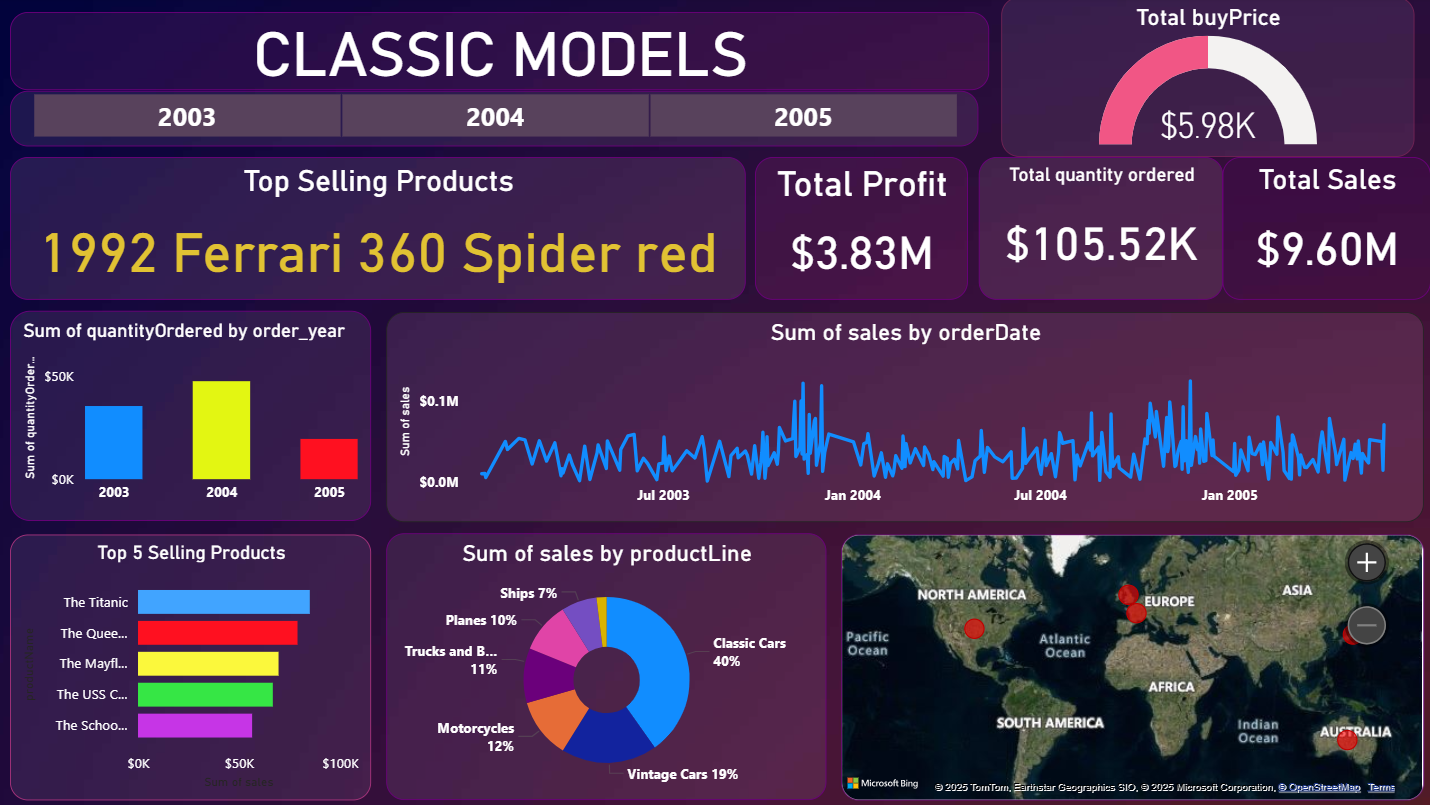

Layout of this report page (visuals, bound fields, positions):
{"tool":"powerbi","page":{"name":"Page 1","canvas":[1280,720],"ordinal":0},"visuals":[{"type":"card","title":"Total Profit","fields":{"Values":["orders detail.total_profit"]},"box":[676.9,142.3,189.7,126.9],"z":0},{"type":"barChart","title":"Top 5 Selling Products","fields":{"Category":["products.productName"],"Y":["Sum(orders detail.sales)"]},"box":[12.8,478.2,321.8,237.2],"z":1000},{"type":"card","title":"Total quantity ordered","fields":{"Values":["Sum(orders detail.quantityOrdered)"]},"box":[875.6,142.3,217.9,126.9],"z":2000},{"type":"slicer","fields":{"Values":["orders.order_year"]},"box":[13.3,83.2,862.6,49.5],"z":3000},{"type":"clusteredColumnChart","fields":{"Category":["orders.order_year"],"Y":["Sum(orders detail.quantityOrdered)"]},"box":[12.8,279.5,321.8,187],"z":4000},{"type":"donutChart","fields":{"Y":["Sum(orders detail.sales)"],"Category":["productline.productLine"]},"box":[348.7,477.8,392.1,237.7],"z":5000},{"type":"card","title":"Total Sales","fields":{"Values":["Sum(orders detail.sales)"]},"box":[1093.6,142.3,185.9,126.9],"z":6000},{"type":"map","fields":{"Size":["CountNonNull(customers.customerNumber)"],"Category":["office.country"]},"box":[753.8,478.2,519.2,237.2],"z":7000},{"type":"card","title":"Top Selling Products","fields":{"Values":["orders detail.MostOrderedProduct"]},"box":[12.8,142.3,655.1,126.9],"z":8000},{"type":"lineChart","fields":{"Y":["Sum(orders detail.sales)"],"Category":["orders.orderDate"]},"box":[348.7,280.8,924.4,187.2],"z":9000},{"type":"gauge","title":"Total buyPrice","fields":{"Y":["Sum(products.buyPrice)"]},"box":[896.2,0,367.9,142.3],"z":10000},{"type":"qnaVisual","title":"CLASSIC MODELS","box":[13.3,13.3,872.3,70],"z":11000}]}

Visuals, with their boxes in screenshot pixels (x1, y1, x2, y2), scaled from the page's 1280x720 canvas onto the 1430x805 screenshot:
"Total Profit" card: <box>756,159,968,301</box>
"Top 5 Selling Products" barChart: <box>14,535,374,800</box>
"Total quantity ordered" card: <box>978,159,1222,301</box>
slicer - orders.order_year: <box>15,93,979,148</box>
clusteredColumnChart - orders.order_year x Sum(orders detail.quantityOrdered): <box>14,312,374,522</box>
donutChart - Sum(orders detail.sales) x productline.productLine: <box>390,534,828,800</box>
"Total Sales" card: <box>1222,159,1429,301</box>
map - CountNonNull(customers.customerNumber) x office.country: <box>842,535,1422,800</box>
"Top Selling Products" card: <box>14,159,746,301</box>
lineChart - Sum(orders detail.sales) x orders.orderDate: <box>390,314,1422,523</box>
"Total buyPrice" gauge: <box>1001,0,1412,159</box>
"CLASSIC MODELS" qnaVisual: <box>15,15,989,93</box>
